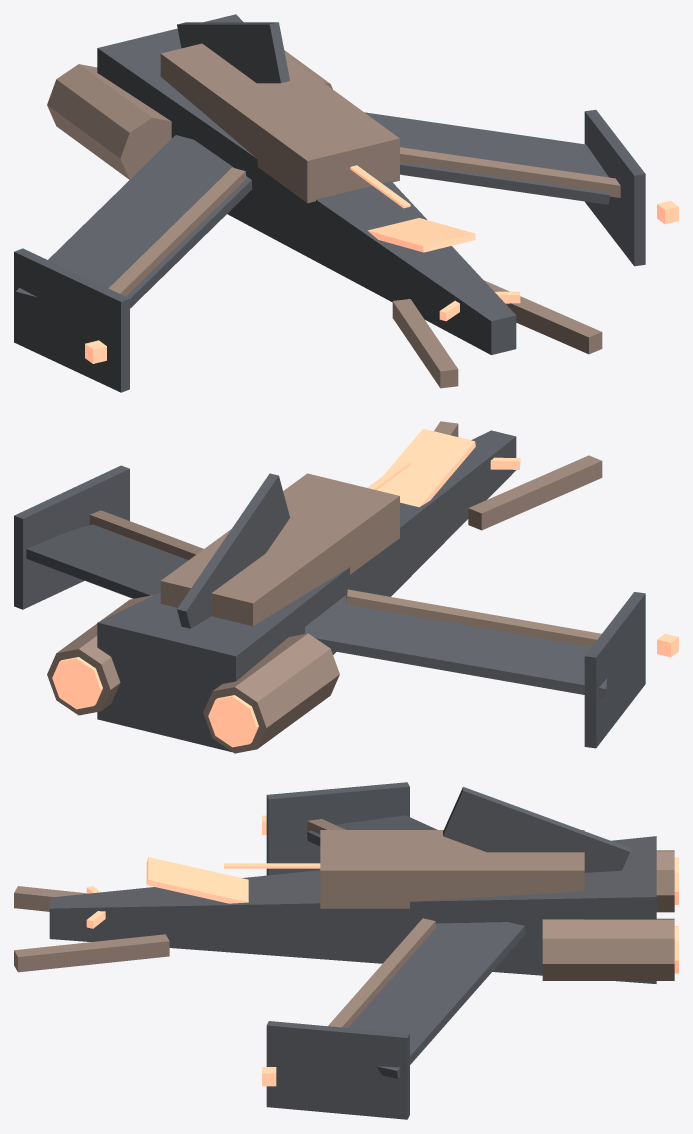
Rendered from Pursuer.fbx.
3 views of the same model, one above another, from view 1: azimuth 30°, elevation 25°; view 2: azimuth 150°, elevation 25°; view 3: azimuth 270°, elevation 25° (orthographic). The views are drawn at different scales.
Parts seen in each view (by area): view 1: Pursuer; view 2: Pursuer; view 3: Pursuer.
Boxes of the visible parts, x1,y1,x2,y2 form: Pursuer: (14, 14, 678, 392); Pursuer: (14, 421, 678, 753); Pursuer: (14, 782, 678, 1119).
Bounding box in the file's own units: 10.22 × 3.73 × 11.07.
